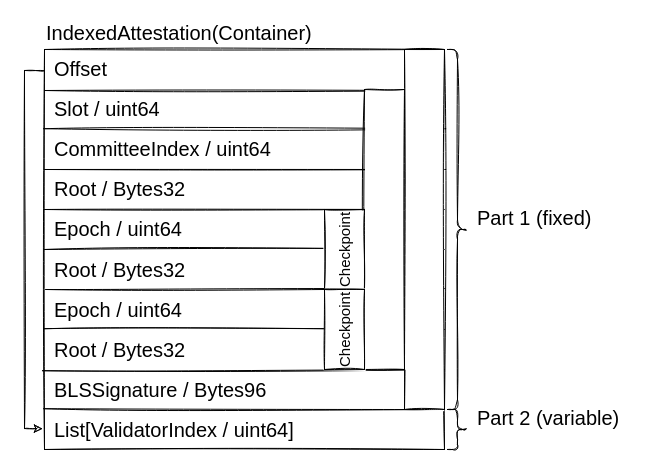
This 672x470 diagram has some shape labels left out. Here are the shapes that lost their labels. From the top down, the box of each, then its label:
(364, 88, 404, 370): AttestationData
(404, 48, 444, 410): IndexedAttestation
